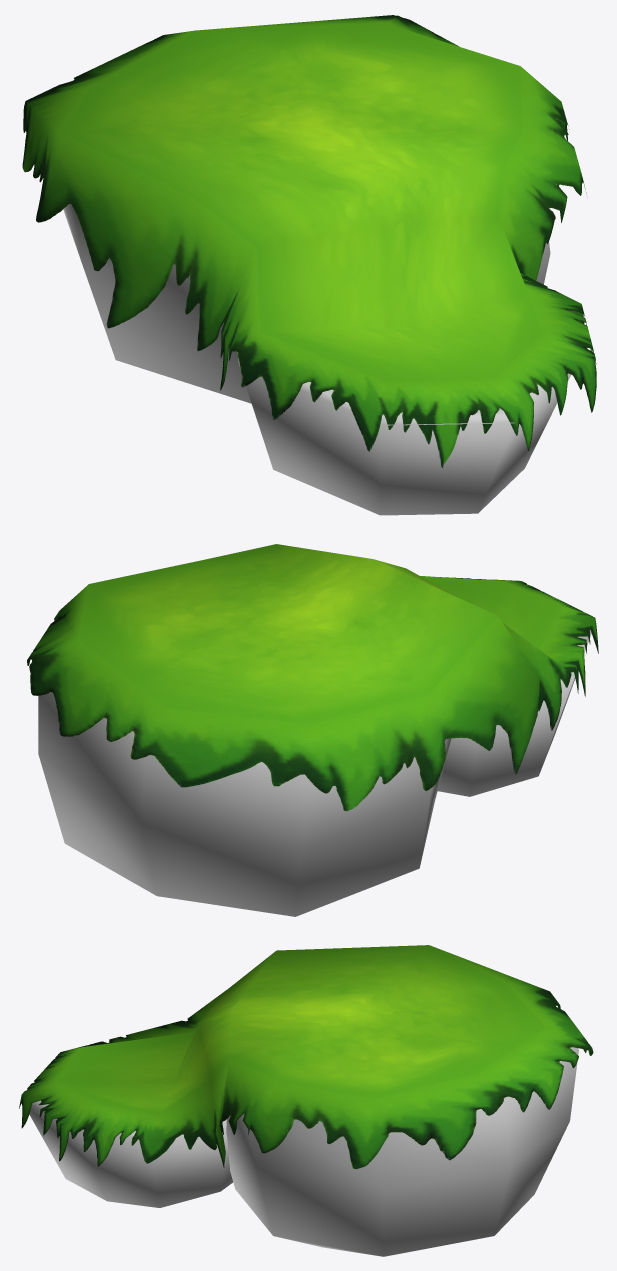
The model's file is Island_Small_08.fbx.
3 renders of one model, top to bottom at view 1: azimuth 30°, elevation 25°; view 2: azimuth 150°, elevation 25°; view 3: azimuth 270°, elevation 25°, orthographic. The views are drawn at different scales.
Parts seen in each view (by area): view 1: Island_Small_08; view 2: Island_Small_08; view 3: Island_Small_08.
Boxes of the visible parts, box(x1,y1,x2,y2) form: Island_Small_08: box(22, 15, 596, 515); Island_Small_08: box(27, 544, 598, 916); Island_Small_08: box(19, 945, 593, 1256).
Bounding box in the file's own units: 169 × 87.61 × 237.
